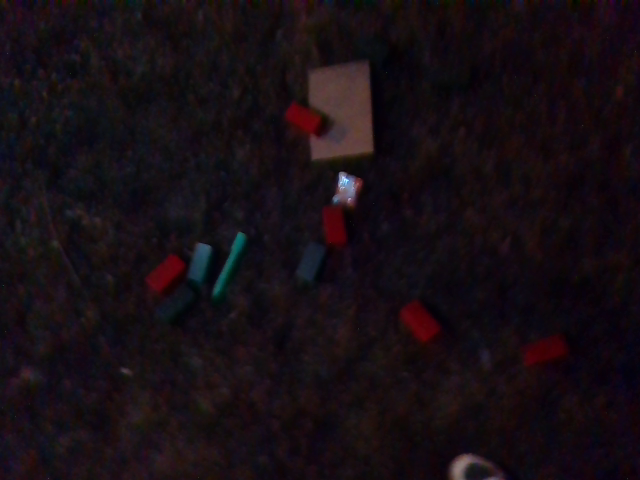Probe: (211, 227, 249, 297)
